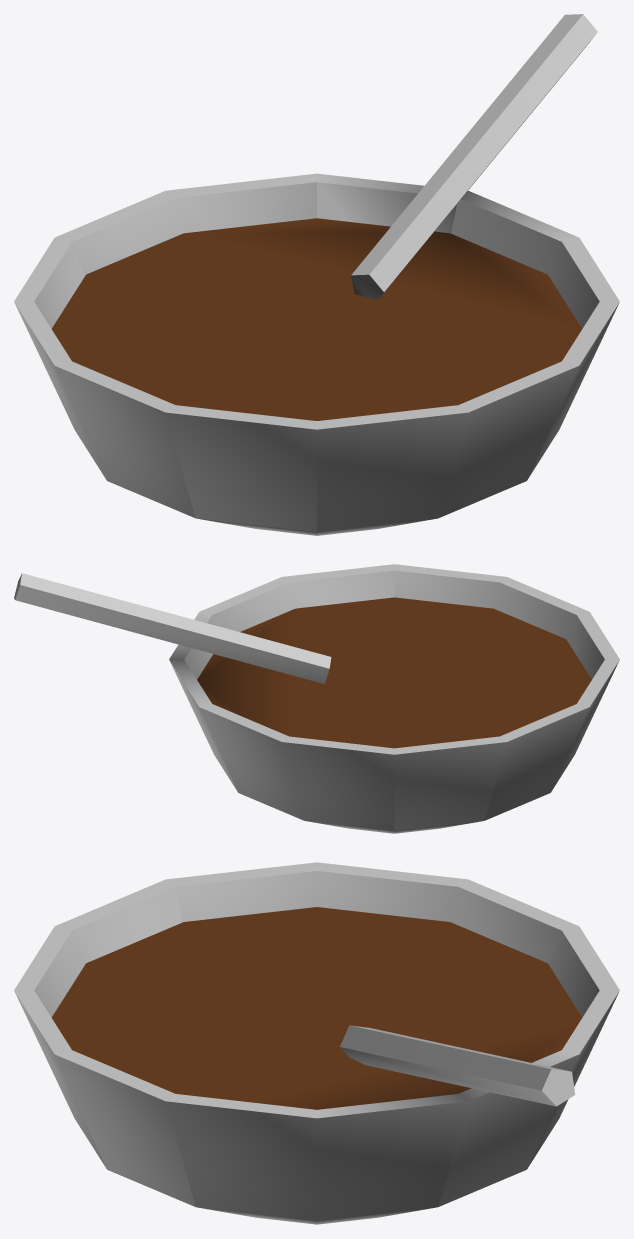
File: guiso.glb
The picture shows the model from 3 angles, top to bottom: view 1: azimuth 30°, elevation 25°; view 2: azimuth 150°, elevation 25°; view 3: azimuth 270°, elevation 25°; orthographic projection. The views are drawn at different scales.
Visible parts, largest first — view 1: guiso; view 2: guiso; view 3: guiso.
Boxes of the visible parts, x1,y1,x2,y2 form: guiso: (14, 14, 619, 535); guiso: (14, 564, 619, 833); guiso: (14, 862, 619, 1224).
Size of the model in its own units: 0.1874 by 0.0796 by 0.15.
